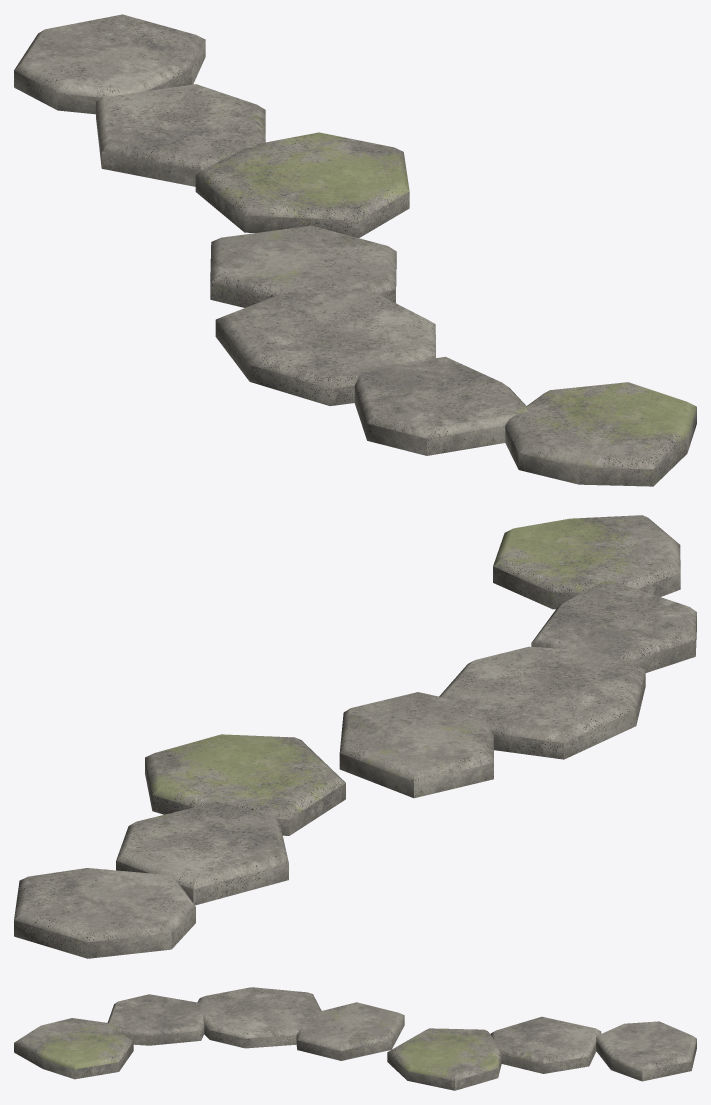
Rendered from camino_piedra.gltf.
The picture shows the model from 3 angles, top to bottom: view 1: azimuth 30°, elevation 25°; view 2: azimuth 150°, elevation 25°; view 3: azimuth 270°, elevation 25°; orthographic projection. The views are drawn at different scales.
Parts seen in each view (by area): view 1: camino_piedra; view 2: camino_piedra; view 3: camino_piedra.
Boxes of the visible parts, <box> form: camino_piedra: <box>14,14,696,486</box>; camino_piedra: <box>14,515,696,958</box>; camino_piedra: <box>14,987,696,1090</box>.
Bounding box in the file's own units: 1.02 × 0.07 × 3.17.
Materials: 1 (1 with a texture image).
